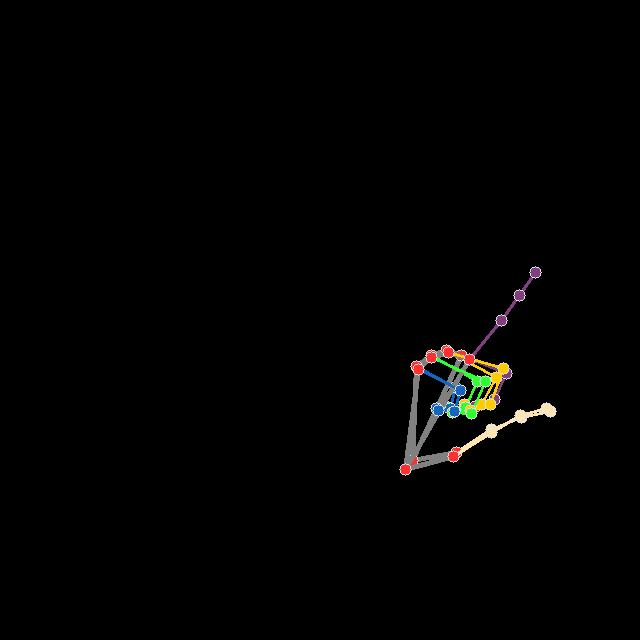gun: (400, 264, 559, 477)
